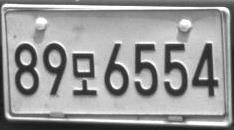4: (191, 42, 218, 97)
5: (163, 42, 188, 97), (133, 43, 158, 97)
6: (103, 43, 129, 96)
8: (13, 42, 40, 95)
9: (42, 42, 67, 95)
모: (71, 52, 97, 96)
